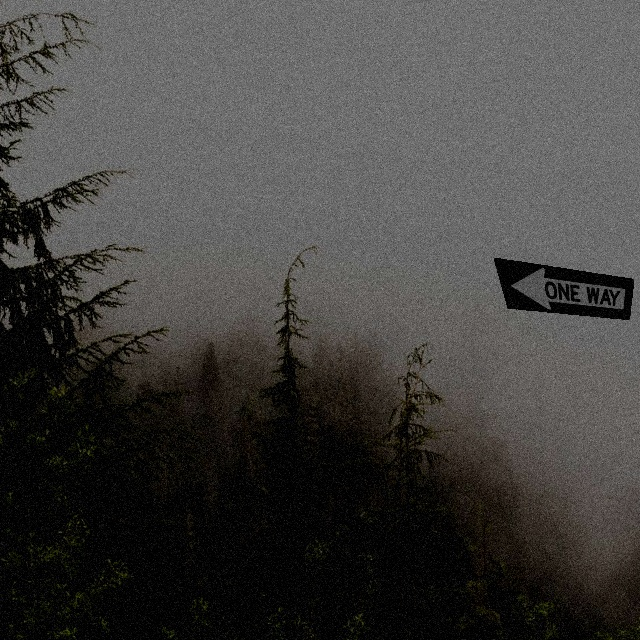ONE_WAY_ left: (493, 257, 634, 320)
